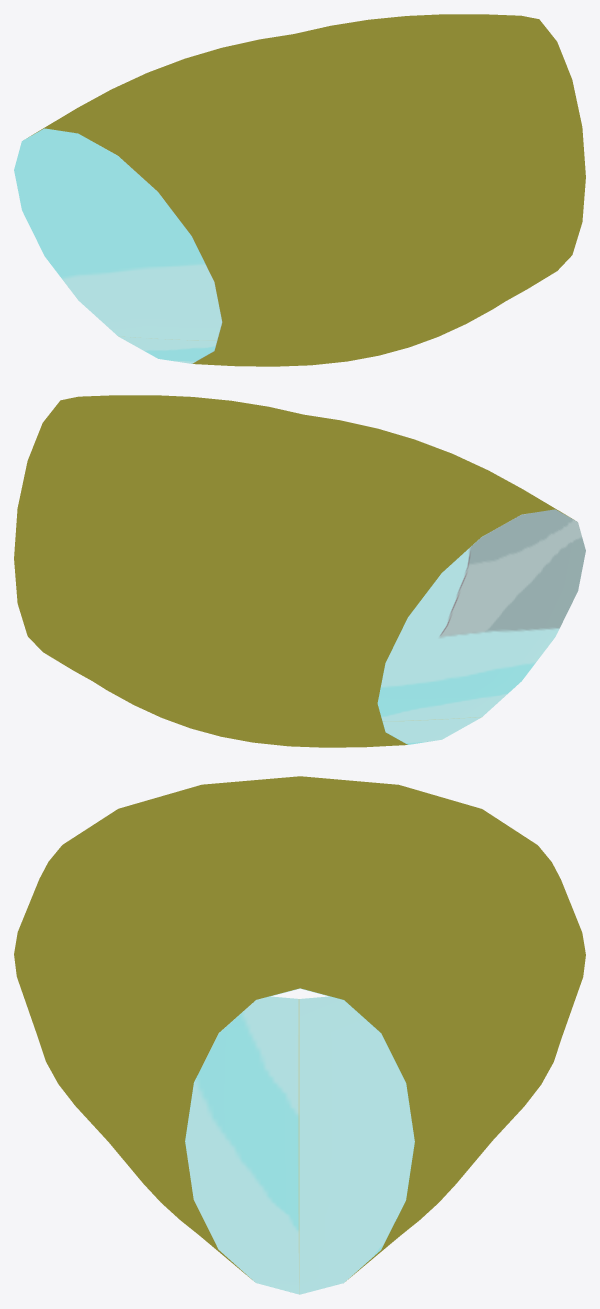
Rendered from Level 199.fbx.
The picture shows the model from 3 angles, top to bottom: view 1: azimuth 30°, elevation 25°; view 2: azimuth 150°, elevation 25°; view 3: azimuth 270°, elevation 25°; orthographic projection. The views are drawn at different scales.
Visible parts, largest first — view 1: Blend; view 2: Blend; view 3: Blend.
Boxes of the visible parts, left/top/right/bottom form: Blend: left=14, top=14, right=585, bottom=366; Blend: left=14, top=395, right=585, bottom=747; Blend: left=14, top=776, right=585, bottom=1294.
Size of what is drawn, in the model's own units: 740 by 479 by 705.
